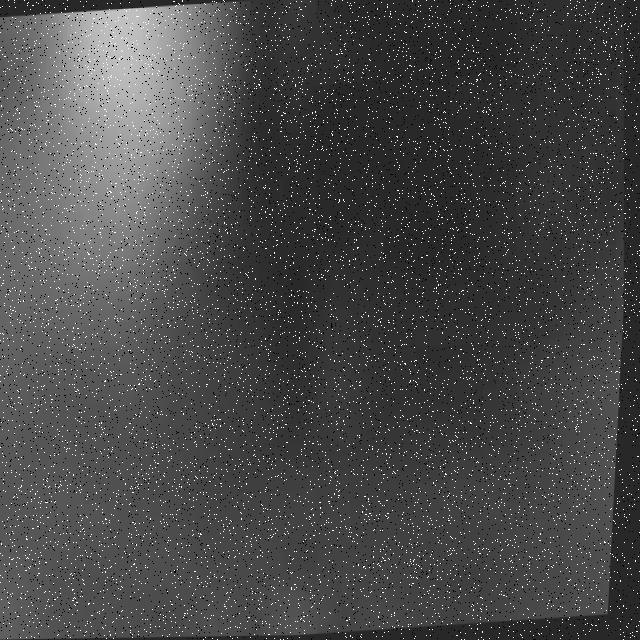person: (29, 3, 237, 245)
